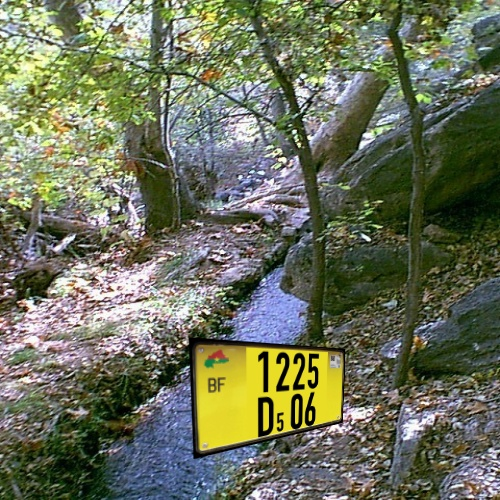plate: (174, 324, 359, 467)
